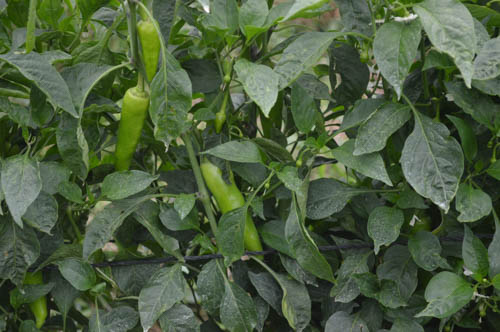ChiliPepper: (200, 154, 260, 259), (114, 89, 147, 173), (137, 21, 162, 83)
